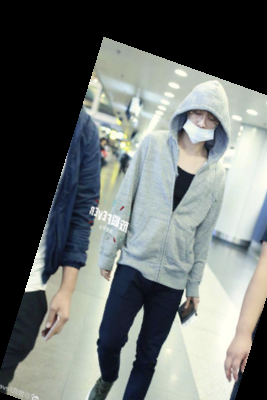mask_weared_incorrect: (171, 76, 261, 155)
